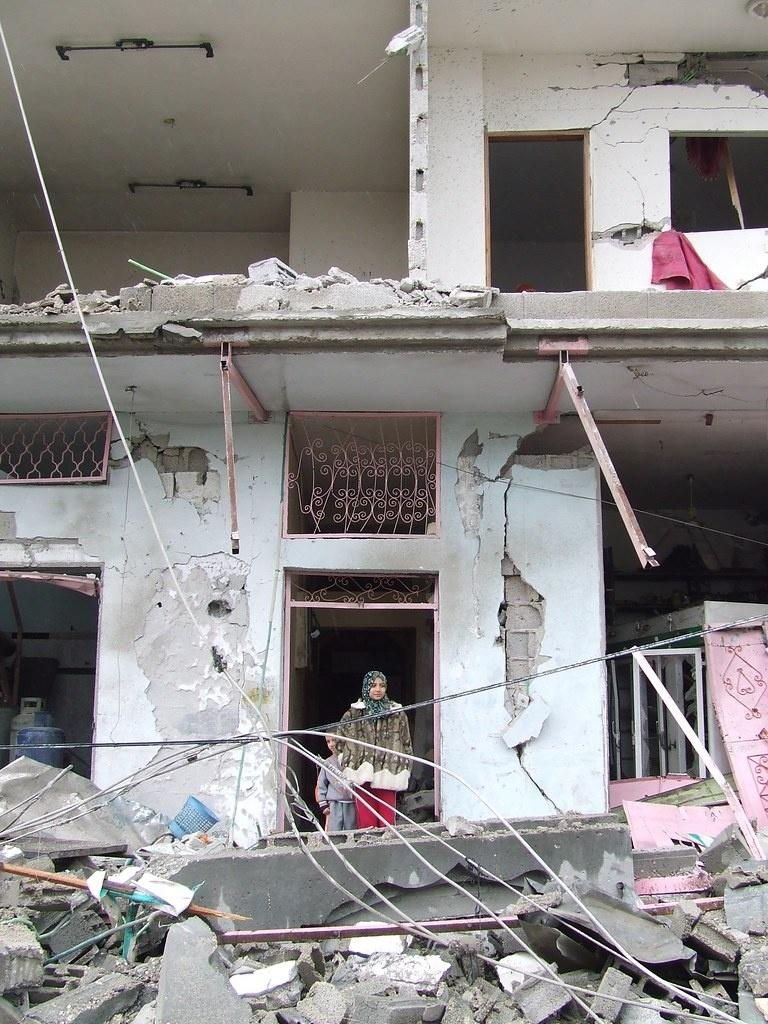Crack: (478, 452, 588, 818), (113, 549, 257, 762), (545, 60, 758, 128), (108, 429, 227, 525), (594, 130, 669, 252)
